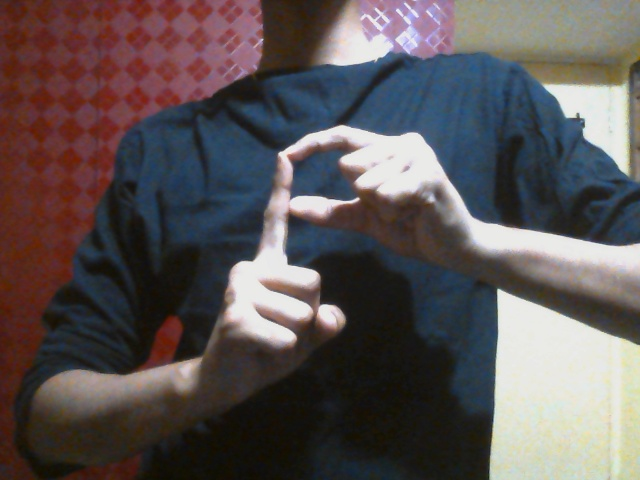P: (201, 121, 476, 400)
